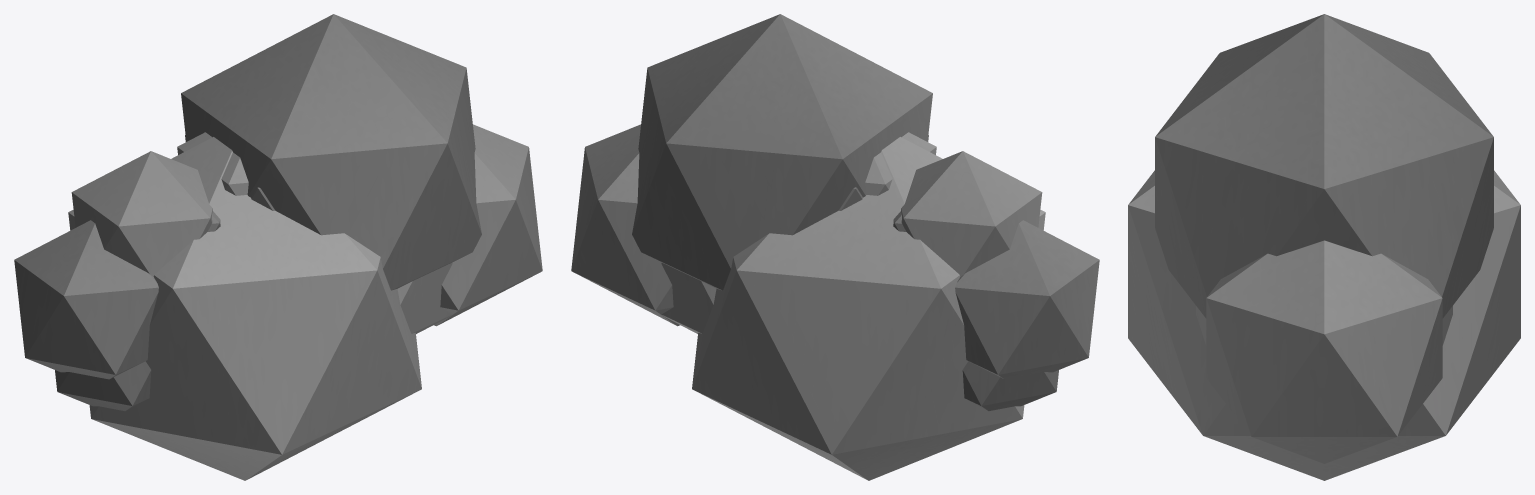
Rendered from Nubes.fbx.
3 renders of one model, left to right at view 1: azimuth 30°, elevation 25°; view 2: azimuth 150°, elevation 25°; view 3: azimuth 270°, elevation 25°, orthographic. The views are drawn at different scales.
Visible parts, largest first — view 1: GeoSphere007, GeoSphere003, GeoSphere012; view 2: GeoSphere007, GeoSphere003, GeoSphere012; view 3: GeoSphere003, GeoSphere007, GeoSphere012.
Boxes of the visible parts, <box> form: GeoSphere007: <box>14,135,421,480</box>; GeoSphere003: <box>181,14,542,326</box>; GeoSphere012: <box>55,132,452,411</box>; GeoSphere007: <box>692,135,1099,480</box>; GeoSphere003: <box>571,14,932,326</box>; GeoSphere012: <box>661,132,1058,411</box>; GeoSphere003: <box>1155,14,1493,463</box>; GeoSphere007: <box>1128,170,1520,480</box>; GeoSphere012: <box>1196,306,1452,345</box>.
Bounding box in the file's own units: 154 × 130 × 89.65.
1 material, 1 textured.
